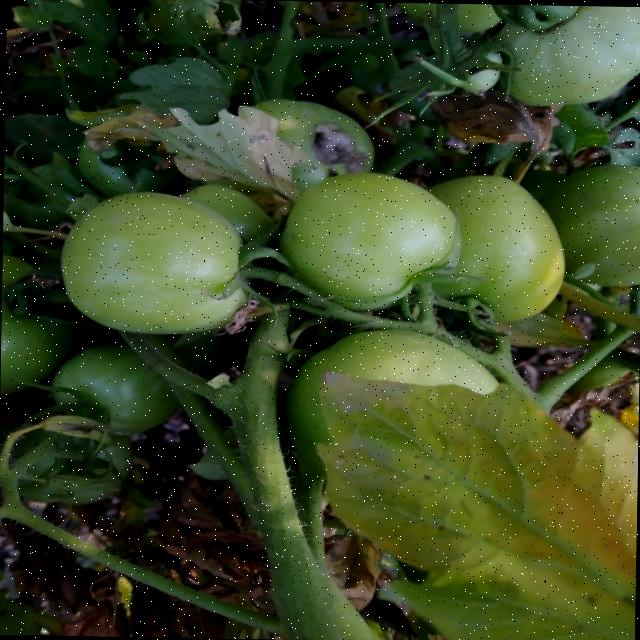Unripe: (57, 190, 259, 334), (278, 170, 456, 314), (52, 344, 178, 434)
